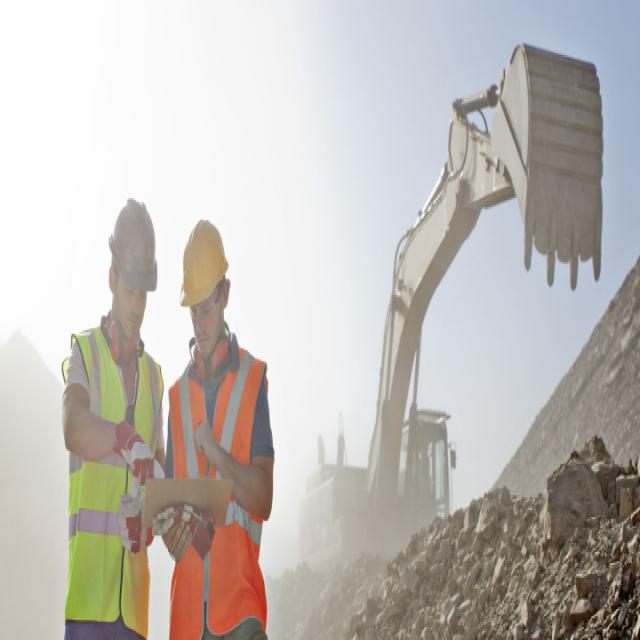Ear Muffs: (94, 302, 151, 366), (181, 313, 236, 378)
Gloves: (113, 407, 168, 561)
Hard Hat: (104, 195, 160, 293), (178, 216, 233, 310)
Reflective Vest: (158, 334, 271, 634), (69, 325, 169, 631)
